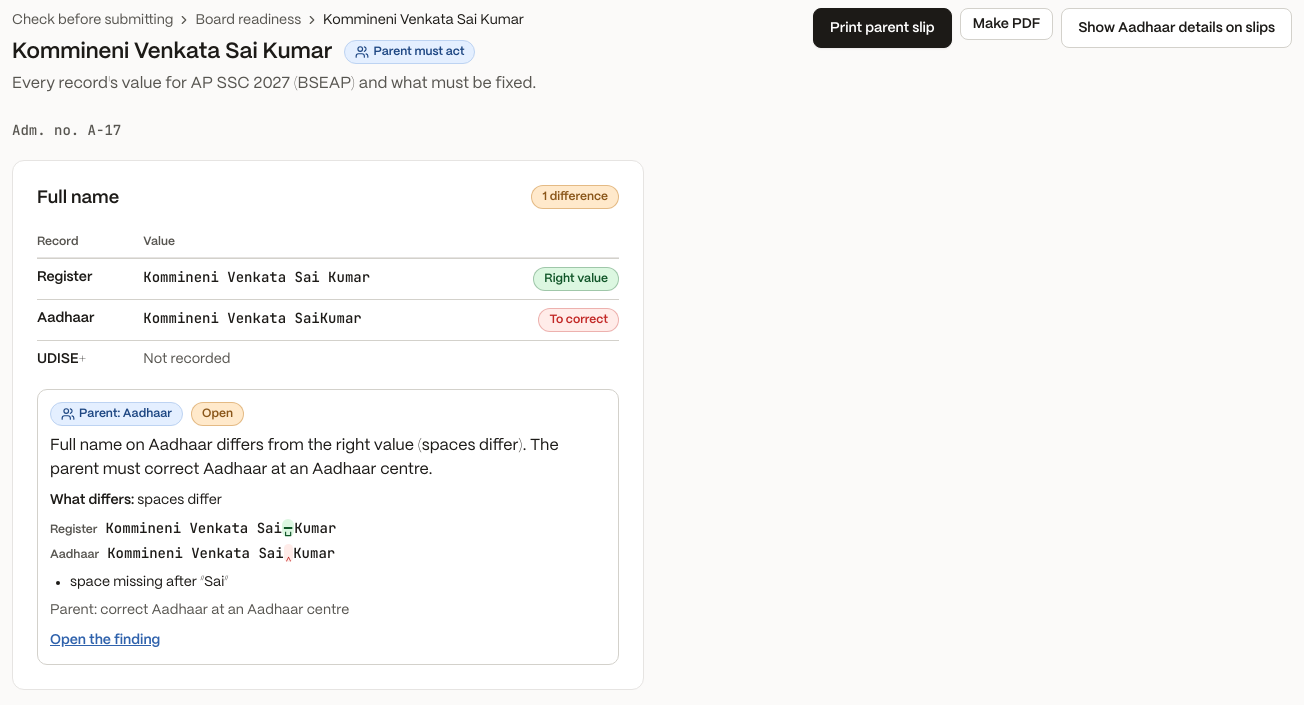
Scenario: slips with Aadhaar details (SEC-045) › explains a refusal and opens nothing
Click the button "Show Aadhaar details on slips". click: coordinates (1177, 28)
box: 1061,8 -> 1292,48
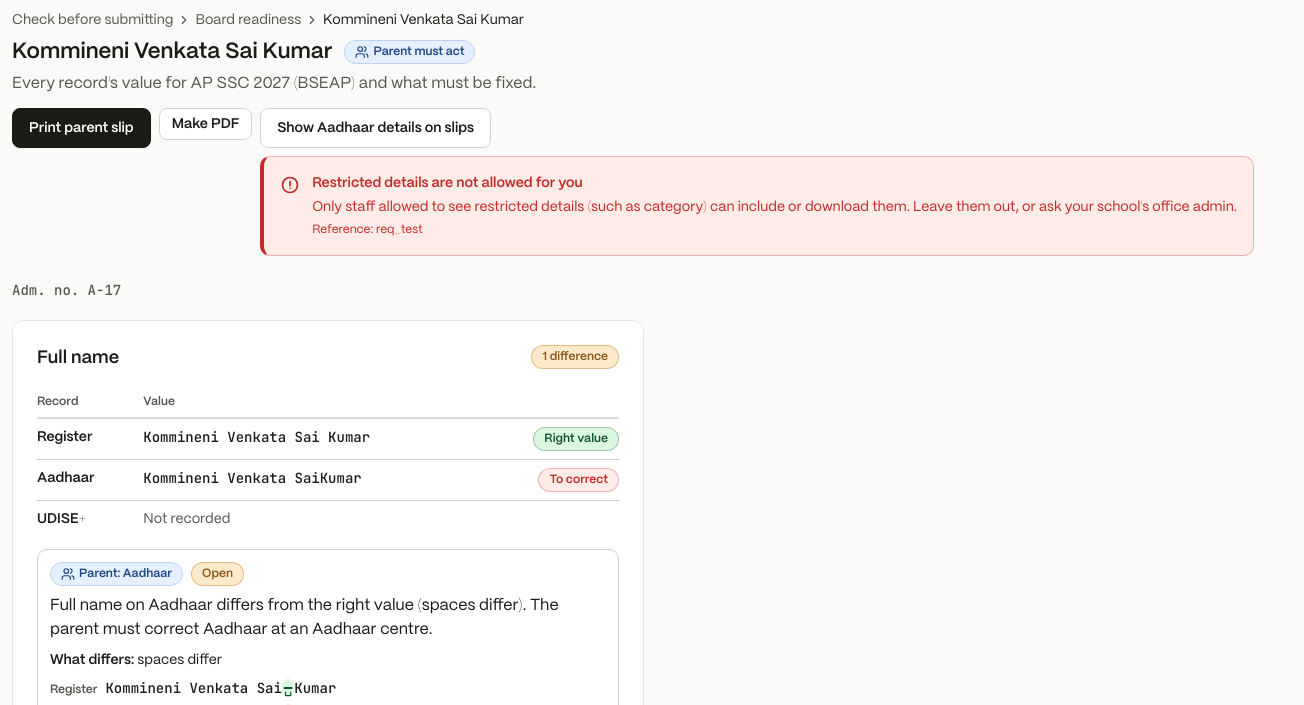
Result: the message is shown at 260,156 -> 1254,256
